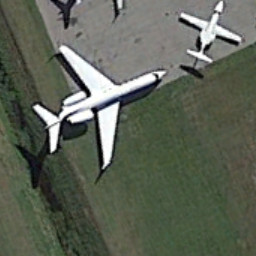Airplane: (25, 35, 176, 179), (169, 1, 249, 73)
